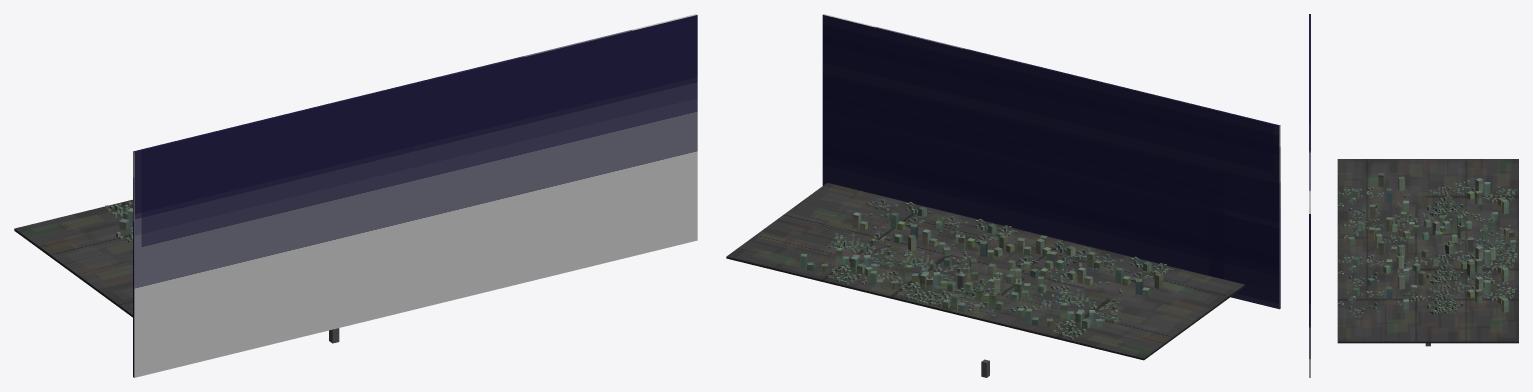
Rendered from CityWithoutMother.fbx.
The picture shows the model from 3 angles, left to right: view 1: azimuth 30°, elevation 25°; view 2: azimuth 150°, elevation 25°; view 3: azimuth 270°, elevation 25°; orthographic projection. The views are drawn at different scales.
Visible parts, largest first — view 1: Sky, Floor, Buildings; view 2: Sky, Floor, Buildings; view 3: Floor, Buildings, Sky.
Part boxes in pixels (x1,y1,x2,y2): Sky: (133,14,697,377); Floor: (14,199,132,317); Buildings: (105,201,339,343); Sky: (822,14,1280,309); Floor: (726,183,1244,360); Buildings: (800,199,1173,377); Floor: (1337,159,1518,343); Buildings: (1337,173,1517,346); Sky: (1309,14,1310,377).
Size of the model in its own units: 160000 by 86250 by 70938.
Materials: 3 (3 with a texture image).
